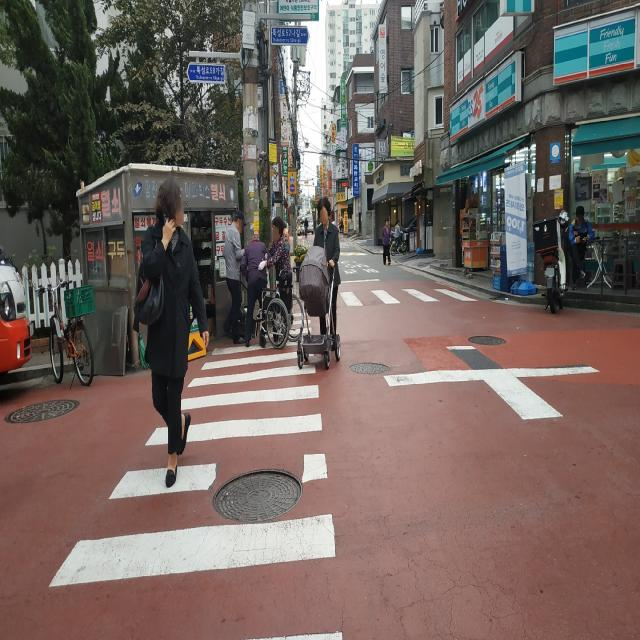횡단보도: (45, 305, 346, 640), (336, 272, 482, 310)
